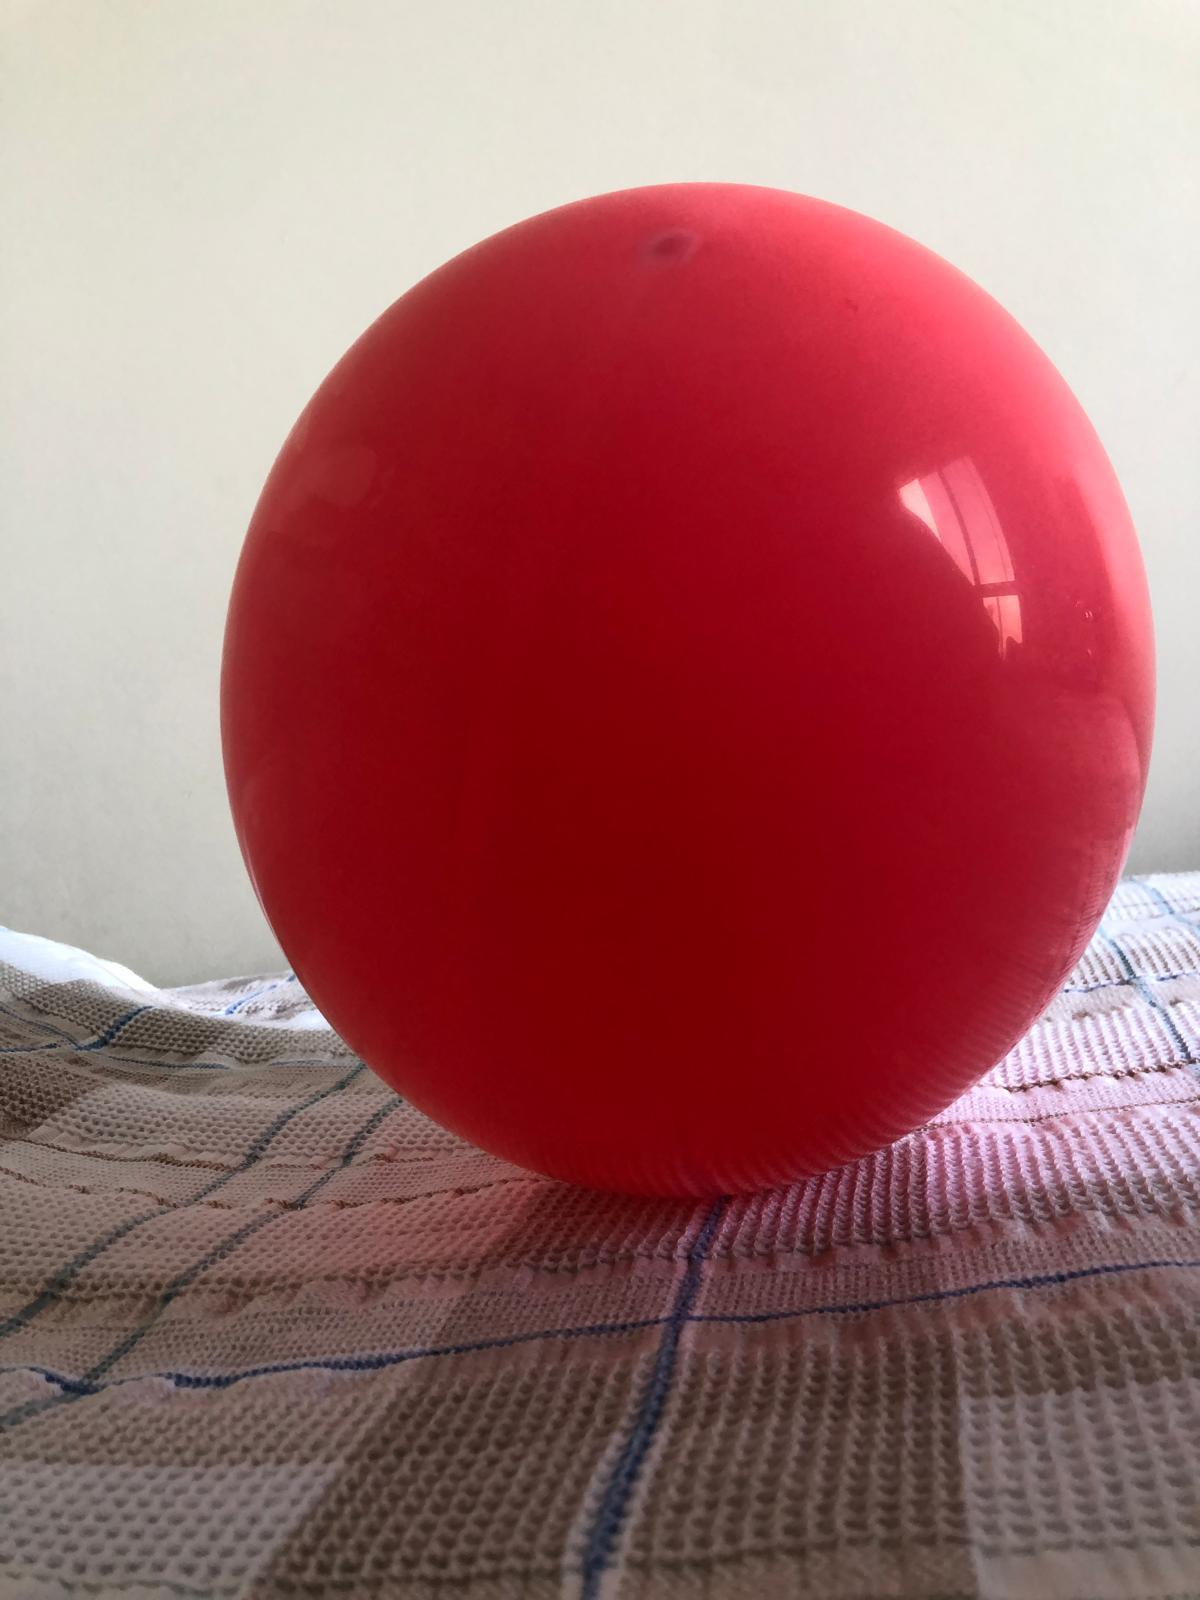red: (214, 164, 1160, 1211)
